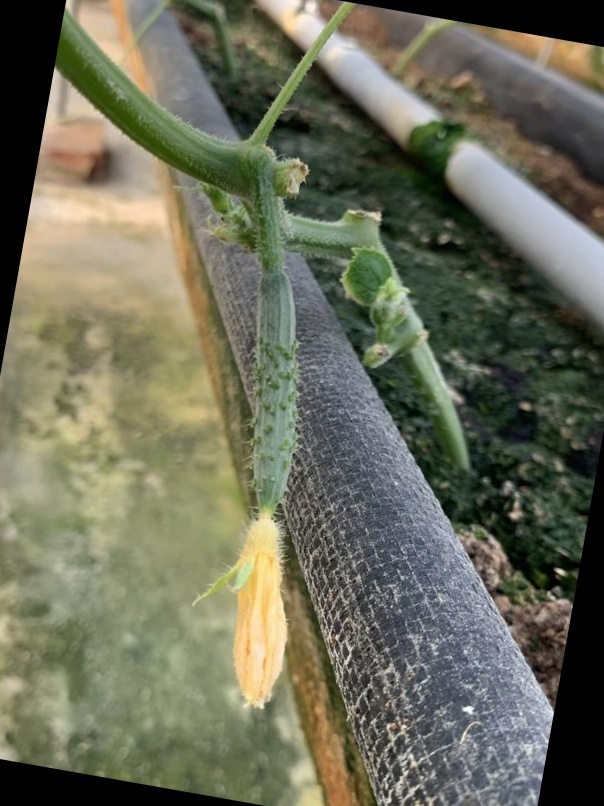bear: (187, 255, 328, 716)
